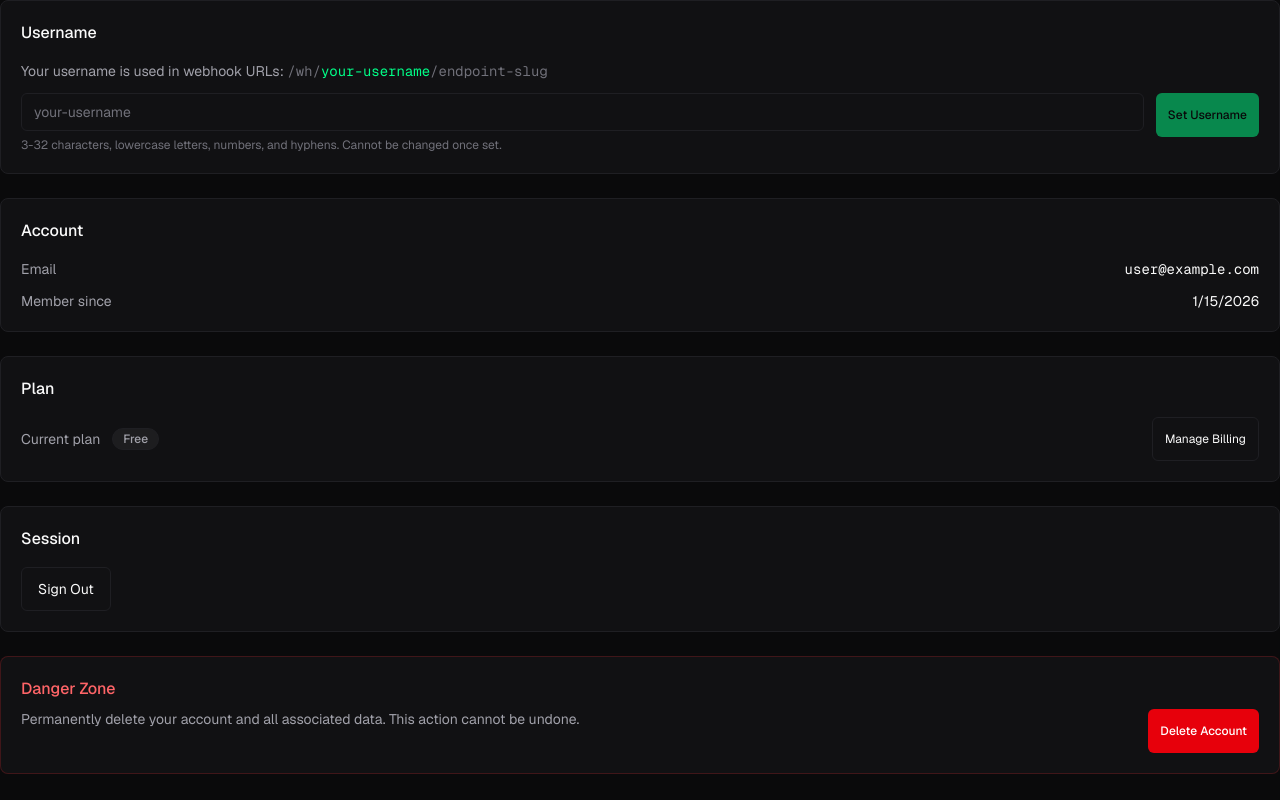
it: SettingsClient › account deletion › collapses back to initial state when cancel is clicked
Step 1. Click the button "Delete Account" → (1204, 731), box 1148,709 -> 1259,753
(page scrolled)
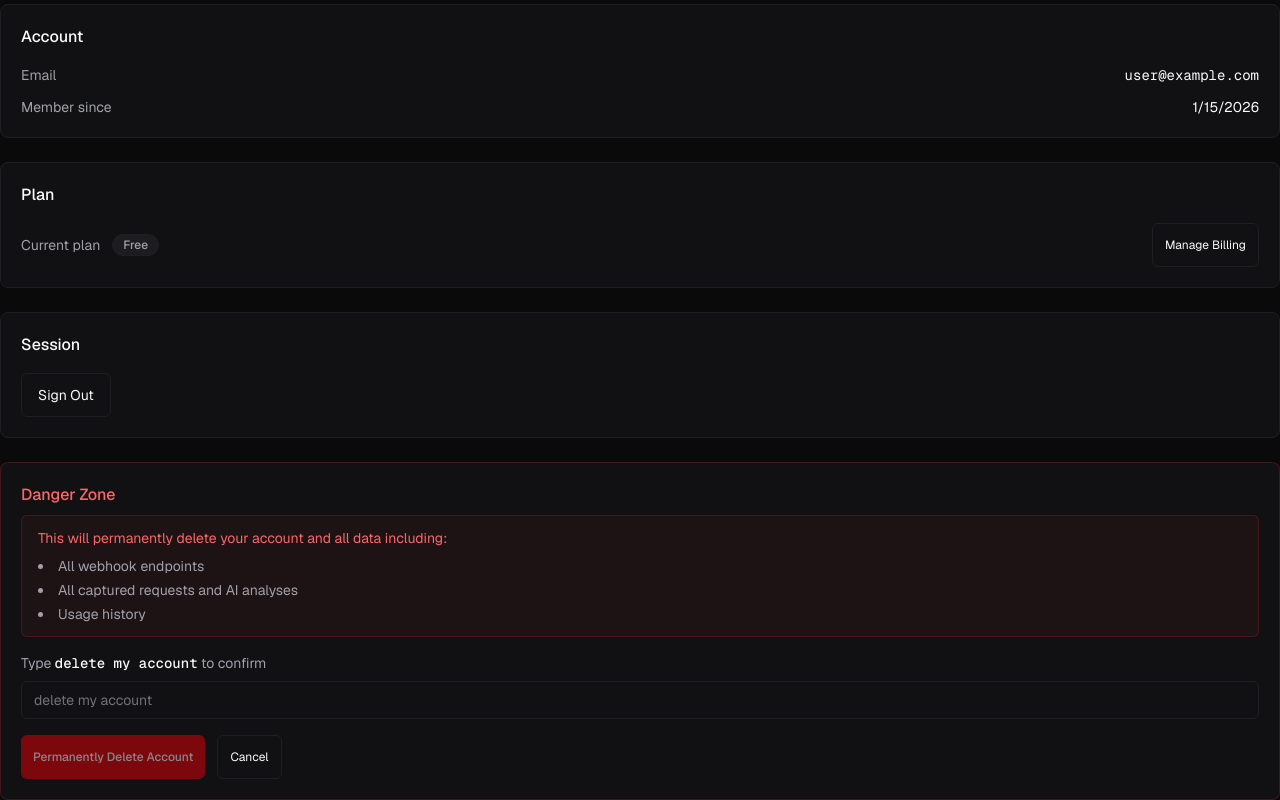
Now the field with placeholder "delete my account" is shown, box 21,681 -> 1259,719
Step 2. Click the button "Cancel" → (249, 757), box 217,735 -> 282,779
(page scrolled)
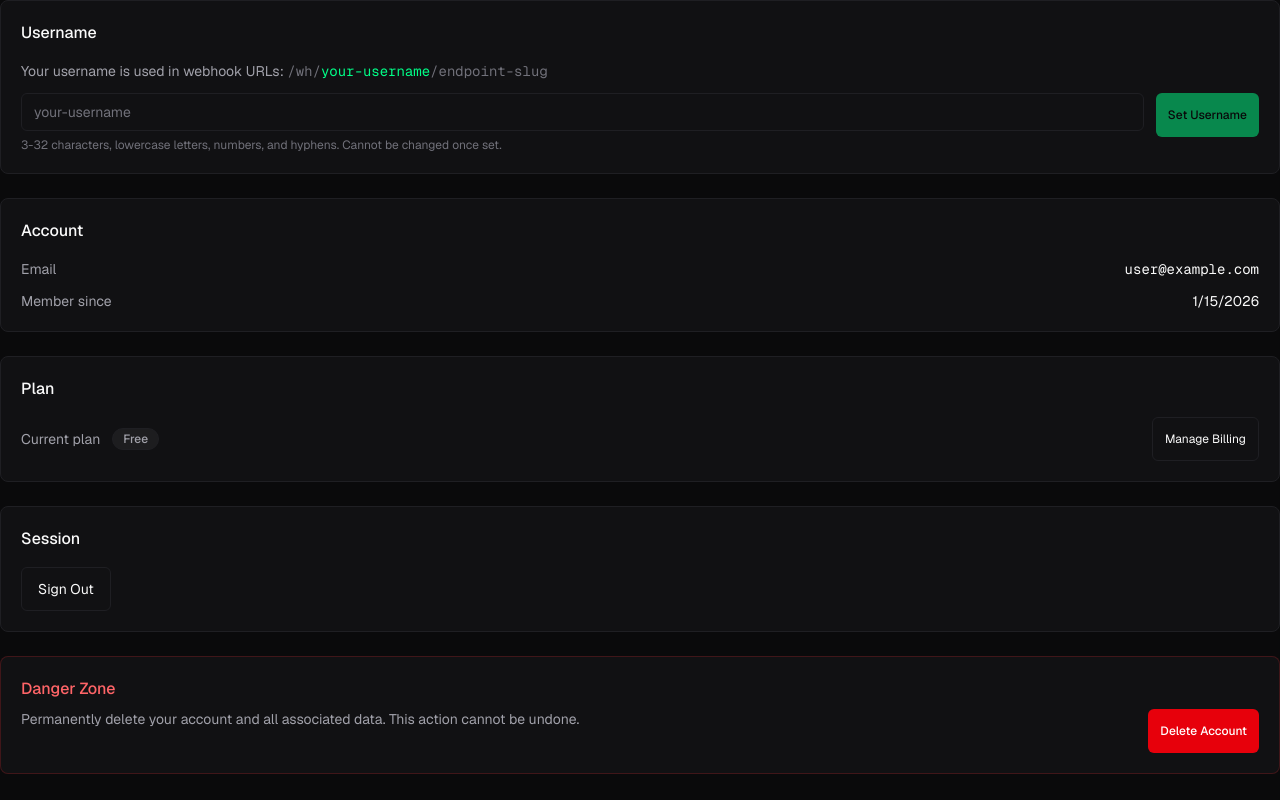
Expected: the button "Delete Account" is shown, 1148,709 -> 1259,753
Now the text with placeholder "delete my account" is gone
